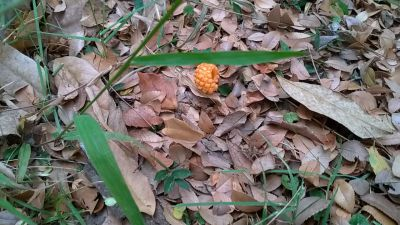eggs: (191, 58, 221, 95)
